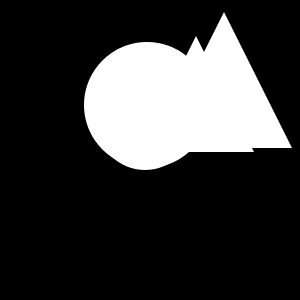rectangle: (84, 42, 210, 168), (97, 74, 193, 170)
triangle: (156, 12, 292, 148), (138, 36, 254, 152)
